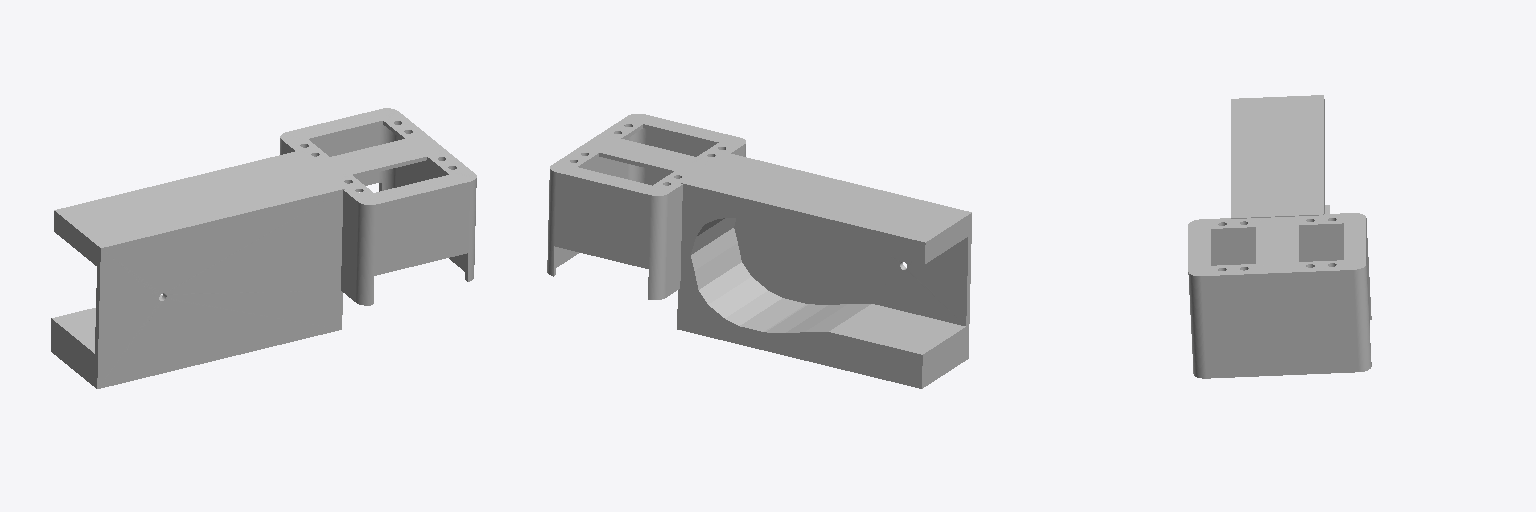
The model's file is gauntlet.obj.
The picture shows the model from 3 angles: view 1: azimuth 30°, elevation 25°; view 2: azimuth 150°, elevation 25°; view 3: azimuth 270°, elevation 25°; orthographic projection.
Parts seen in each view (by area): view 1: gauntlet; view 2: gauntlet; view 3: gauntlet.
Part boxes in pixels (x1,y1,x2,y2): gauntlet: (51, 108, 476, 388); gauntlet: (547, 114, 971, 388); gauntlet: (1188, 95, 1371, 378).
Size of the model in its own units: 0.1908 by 0.0754 by 0.0843.